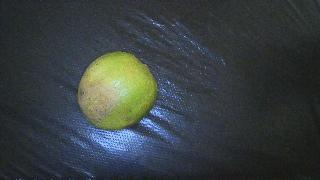DESECHO: (77, 51, 157, 130)
